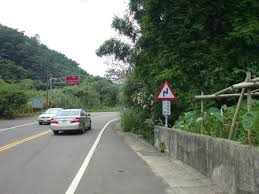Double_bend_right: (157, 80, 175, 99)
